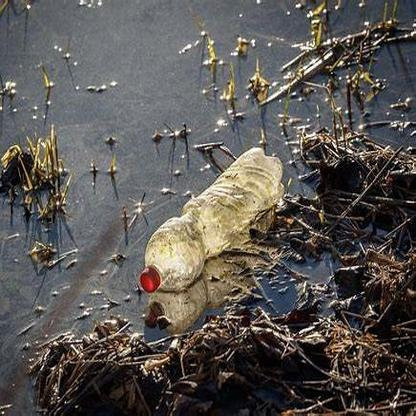plastic bottle: (138, 147, 284, 292)
